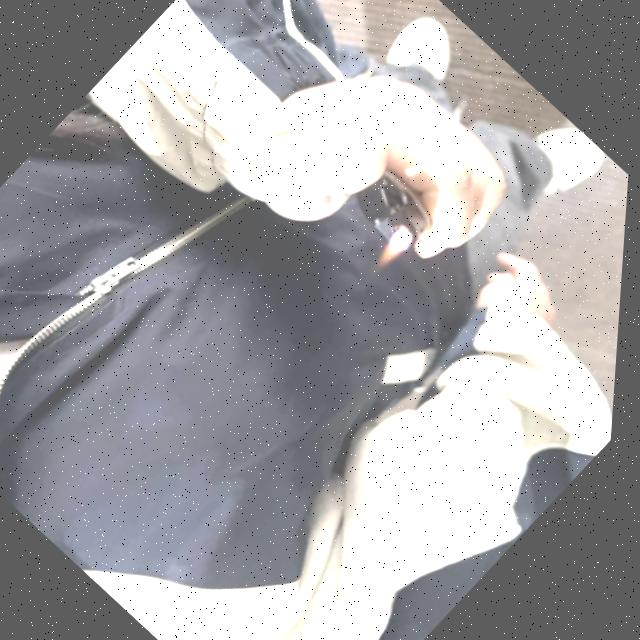Fire: (376, 232, 413, 268)
